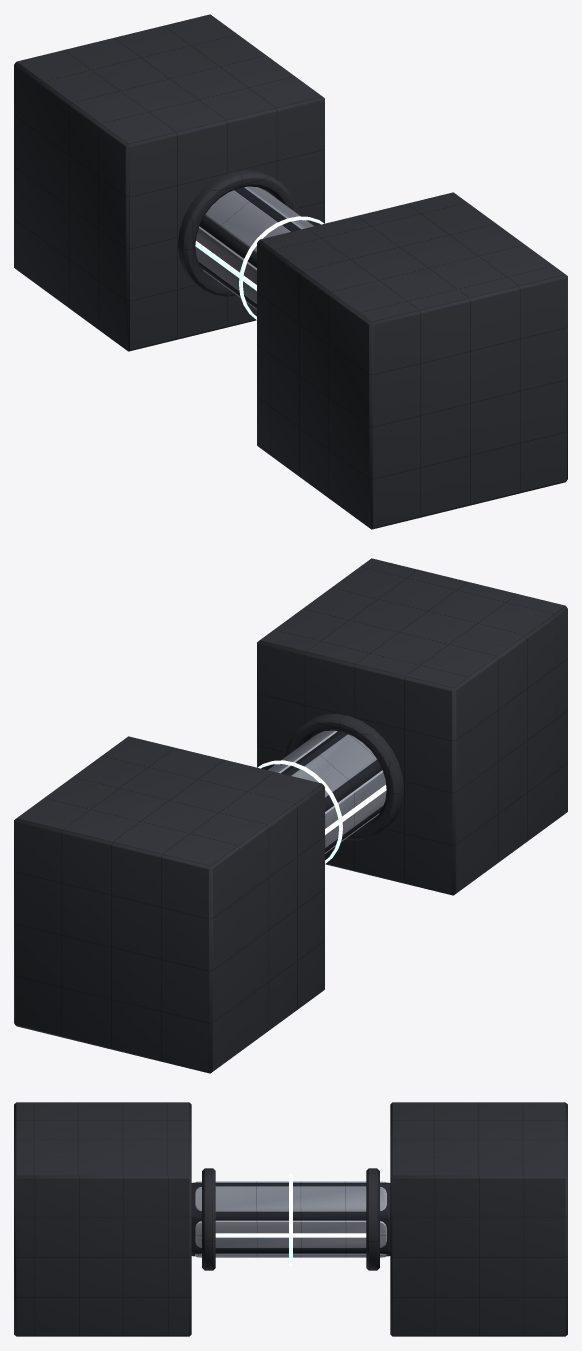
Rendered from R4C_STRUT_STANDARD.glb.
3 views of the same model, one above another, from view 1: azimuth 30°, elevation 25°; view 2: azimuth 150°, elevation 25°; view 3: azimuth 270°, elevation 25° (orthographic). The views are drawn at different scales.
Visible parts, largest first — view 1: R4C_STRUT_STANDARD; view 2: R4C_STRUT_STANDARD; view 3: R4C_STRUT_STANDARD.
Boxes of the visible parts, x1,y1,x2,y2 form: R4C_STRUT_STANDARD: (14, 14, 567, 529); R4C_STRUT_STANDARD: (14, 558, 567, 1073); R4C_STRUT_STANDARD: (14, 1102, 567, 1336).
Bounding box in the file's own units: 0.52 × 0.52 × 1.62.
Materials: 4 (3 with a texture image).
